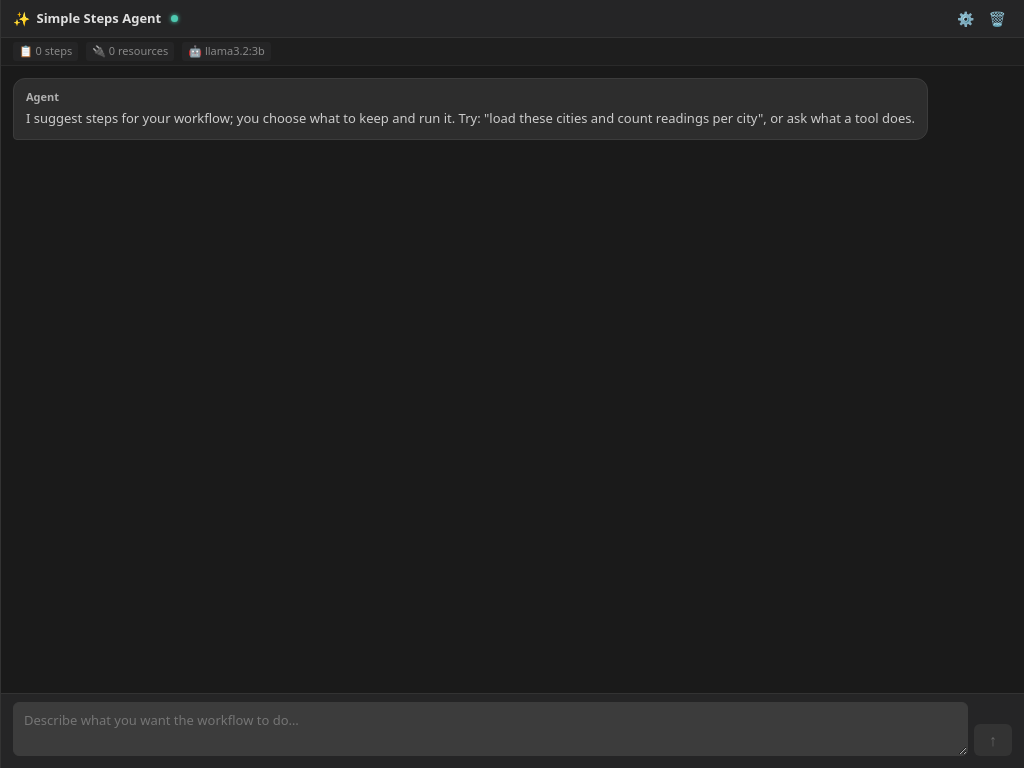
Scenario: ChatSidebar › sends a request and shows the proposal; Apply reaches the workflow
Check: the text "🤖 llama3.2:3b" is shown, box left=182, top=42, right=271, bottom=60
In the text box with placeholder "Describe what you want the workflow to do…": [490, 729] box left=13, top=702, right=968, bottom=756, type "score it"
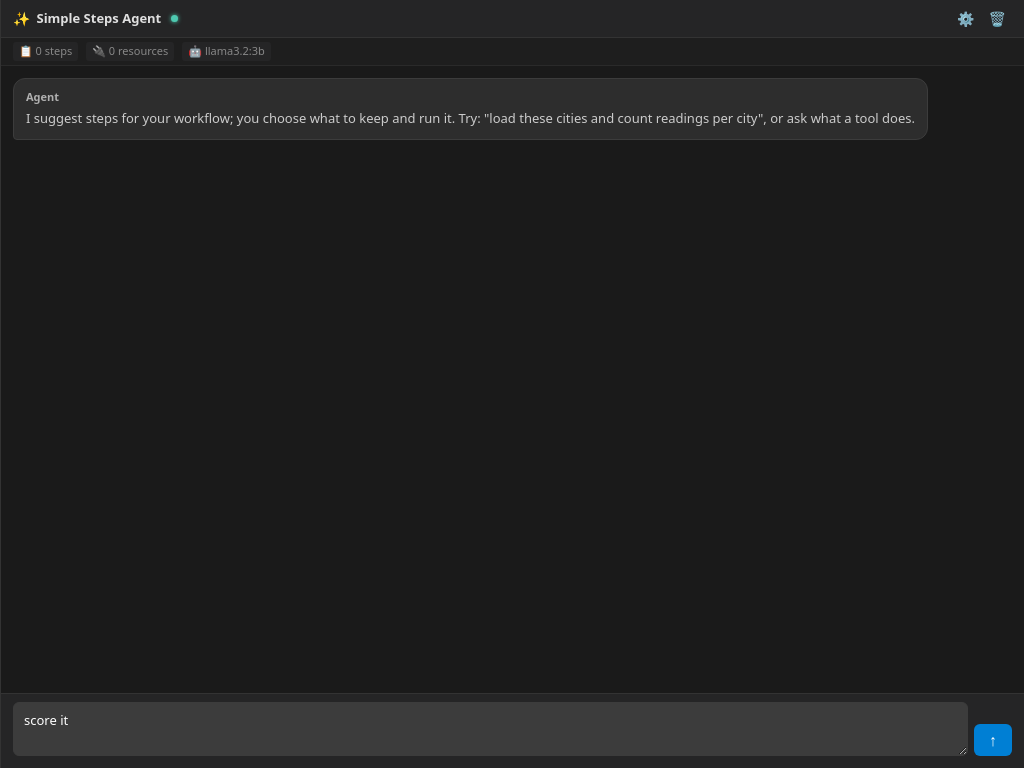
Press Enter in the text box with placeholder "Describe what you want the workflow to do…", box left=13, top=702, right=968, bottom=756
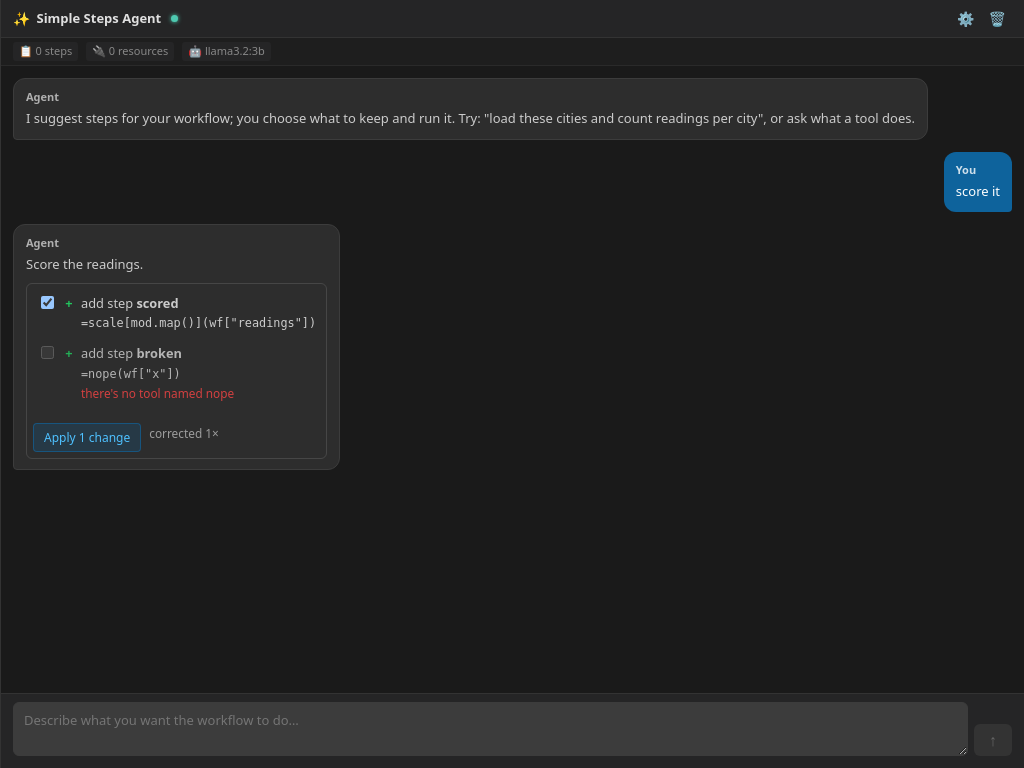
Check: the text "Score the readings." is shown, box left=26, top=255, right=143, bottom=273
Click the button "Apply 1 change": [87, 438] box left=33, top=423, right=141, bottom=452
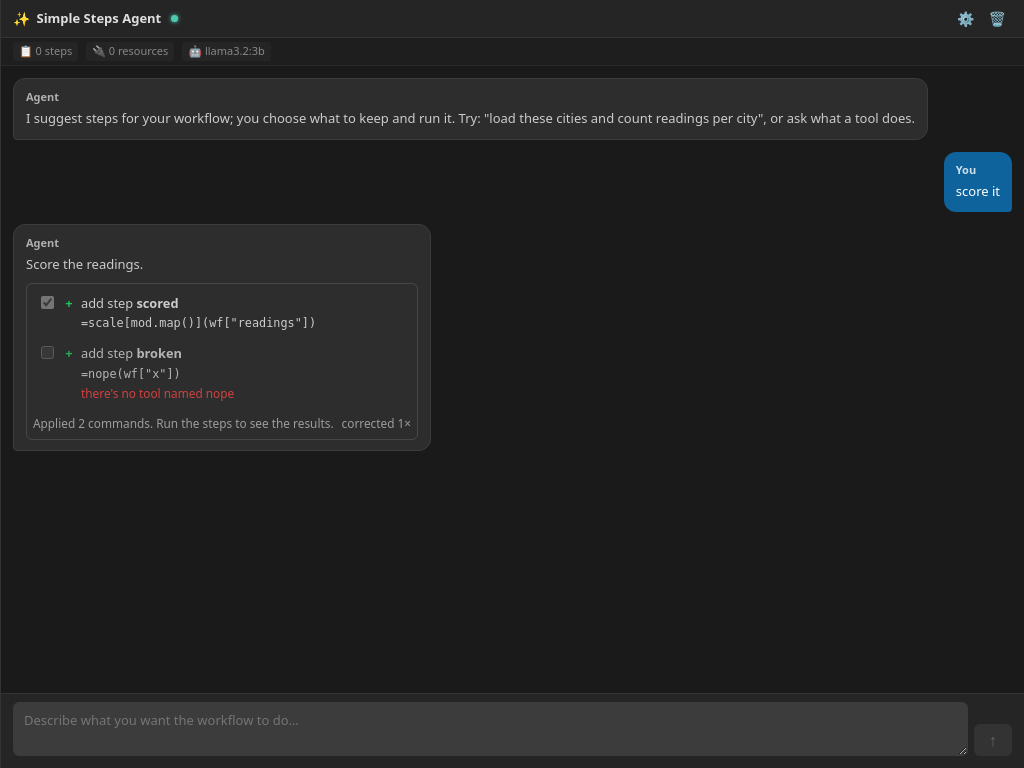
Check: the text "Applied 2 commands. Run the steps to see the results." is shown, box left=33, top=415, right=334, bottom=433
